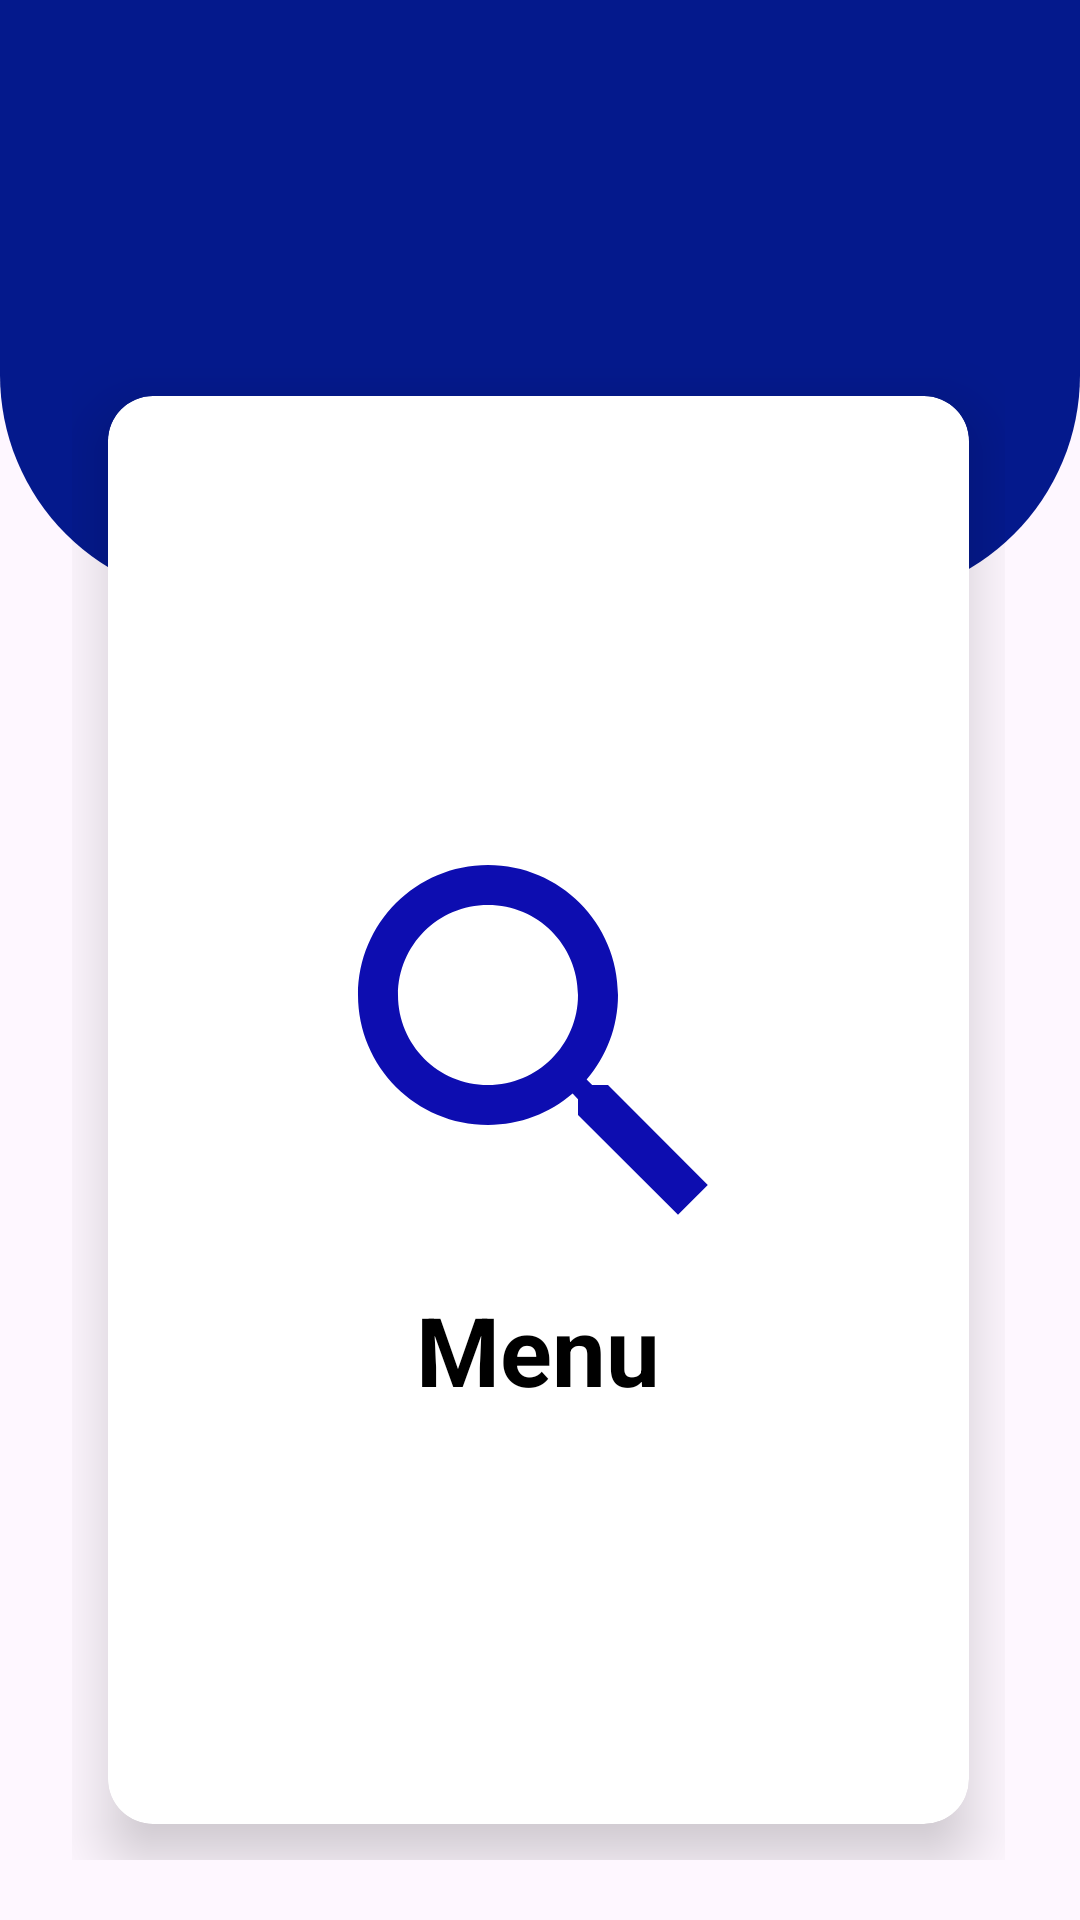

Screen size 1080x1920. Icon name, then its center in pixels as (x,y):
search: (533,1040)
